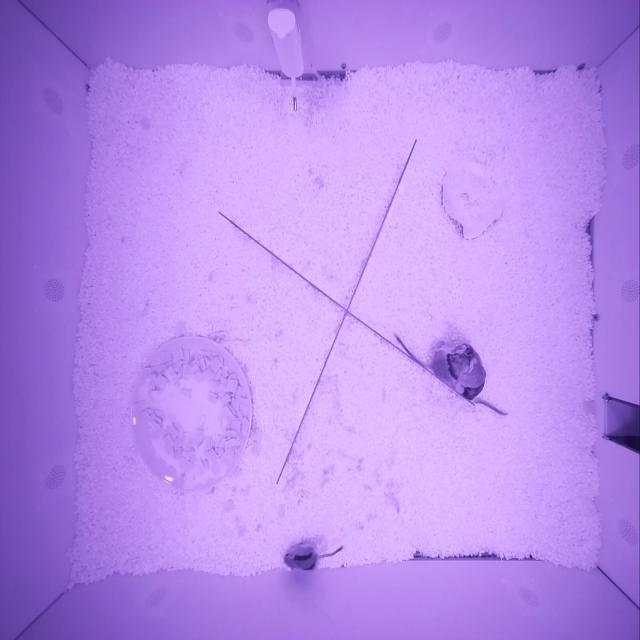adult_back: (452, 342, 484, 402)
adult_front: (431, 339, 476, 389)
pup_v_stripe: (282, 543, 318, 571)
